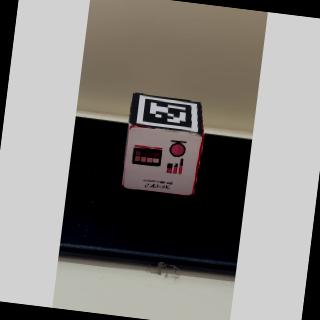Expired_Cosmetic: (121, 123, 207, 201)
